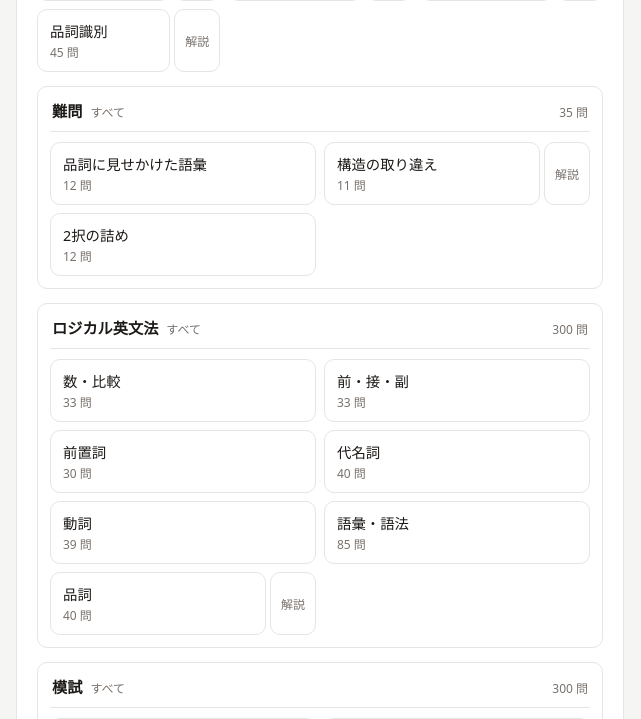
Test: 回答後の元問題表示 › ロジカル英文法だけ種別とレベルが出る
The image size is (641, 719).
(page scrolled)
Click the button "ロジカル英文法 すべて 300 問" at [105, 328], box [50,316,590,338]
(page scrolled)
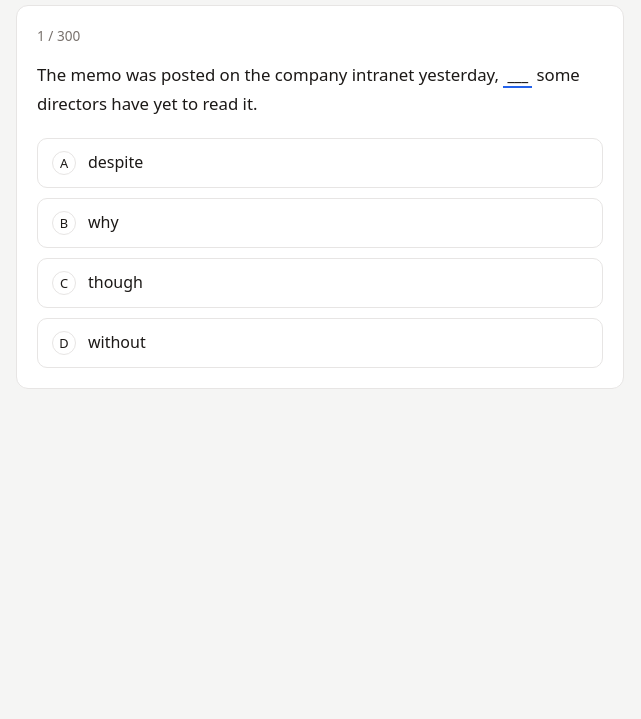
Click the button with class "choice" showing "A despite" at [116, 162], box [37,138,603,188]
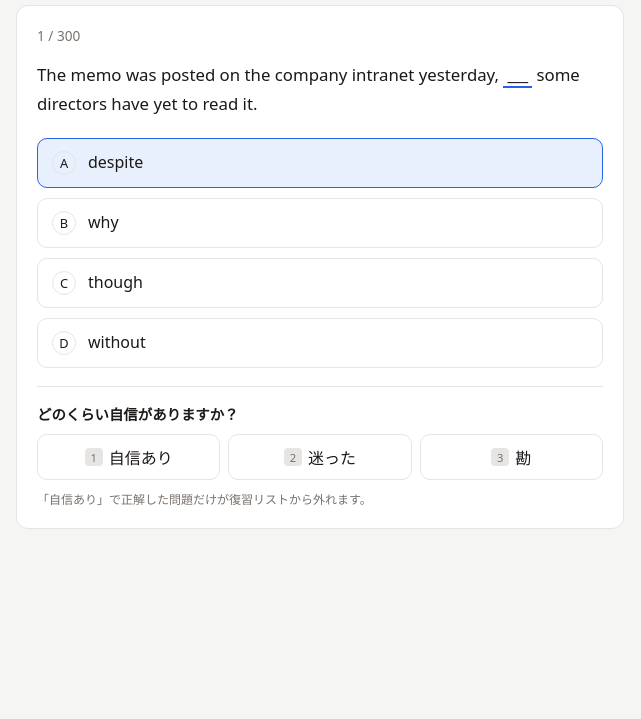
Click the button "1 自信あり" at [129, 457], box [37,434,220,480]
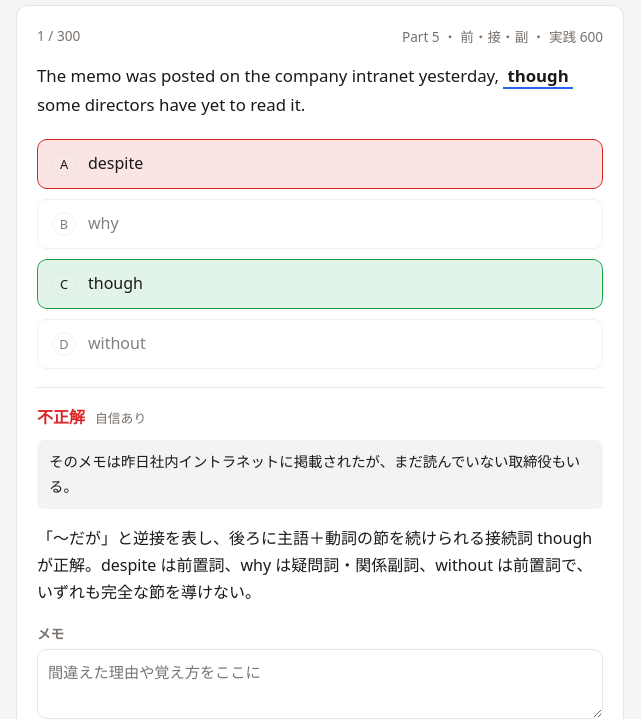
Result: the header with class "card__meta" reads "1 / 300 Part 5 ・ 前・接・副 ・ 実践 600" at [549,27,603,46]
